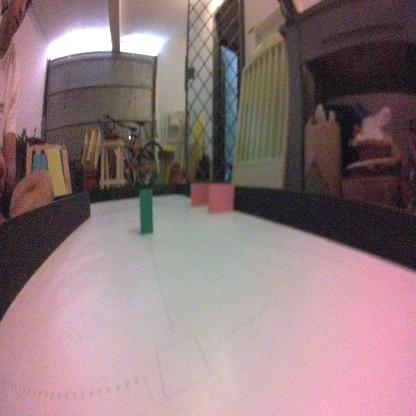magenta: (207, 183, 233, 217), (190, 179, 215, 208)
